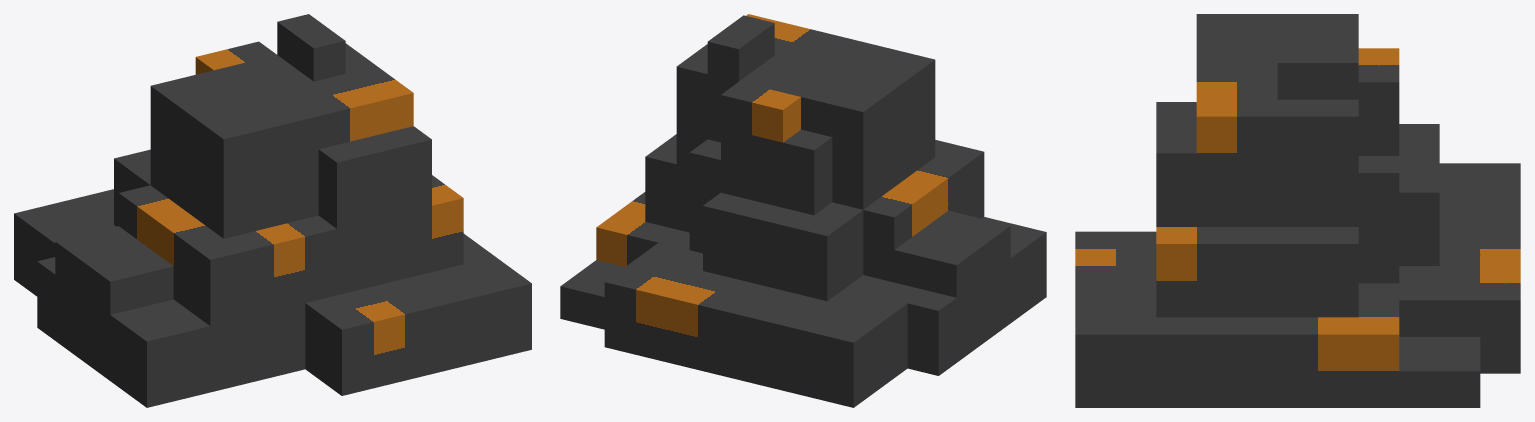
File: CopperOre.fbx
3 views of the same model, side by side, from view 1: azimuth 30°, elevation 25°; view 2: azimuth 150°, elevation 25°; view 3: azimuth 270°, elevation 25° (orthographic). The views are drawn at different scales.
Parts seen in each view (by area): view 1: cube_12, cube_4, cube, cube_2, cube_10, cube_6, cube_1, cube_11, cube_5, cube_8; view 2: cube_1, cube_12, cube_5, cube_4, cube_2, cube_9, cube_6, cube_8, cube, cube_11, cube_3, cube_7; view 3: cube, cube_12, cube_1, cube_4, cube_3, cube_5, cube_7, cube_10, cube_11, cube_8, cube_9.
Boxes of the visible parts, x1,y1,x2,y2 form: cube_12: (150, 43, 413, 238); cube_4: (119, 175, 463, 325); cube: (305, 234, 531, 395); cube_2: (37, 257, 305, 407); cube_10: (318, 126, 431, 228); cube_6: (55, 226, 173, 314); cube_1: (14, 189, 115, 296); cube_11: (277, 14, 345, 81); cube_5: (114, 149, 150, 226); cube_8: (195, 41, 276, 74); cube_1: (604, 242, 907, 407); cube_12: (676, 14, 935, 209); cube_5: (703, 192, 863, 301); cube_4: (645, 134, 984, 282); cube_2: (845, 217, 1046, 375); cube_9: (721, 127, 832, 215); cube_6: (894, 210, 1010, 297); cube_8: (721, 82, 800, 142); cube: (596, 192, 689, 266); cube_11: (707, 15, 774, 81); cube_3: (560, 260, 624, 329); cube_7: (689, 139, 720, 253); cube: (1075, 231, 1399, 407); cube_12: (1196, 14, 1358, 226); cube_1: (1399, 163, 1520, 373); cube_4: (1156, 227, 1358, 317); cube_3: (1399, 337, 1480, 407); cube_5: (1399, 124, 1439, 265); cube_7: (1358, 156, 1399, 283); cube_10: (1156, 102, 1196, 226); cube_11: (1277, 45, 1358, 99); cube_8: (1358, 48, 1399, 119); cube_9: (1358, 119, 1399, 155).
Size of the model in its own units: 68.75 by 50 by 68.75.
Materials: 1 (1 with a texture image).
